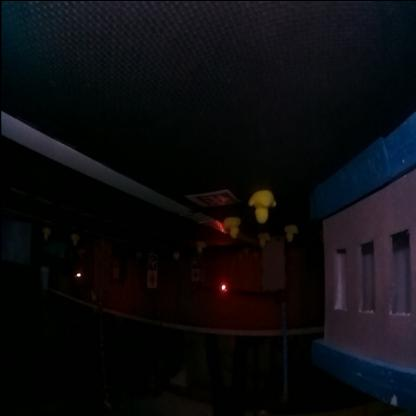Duckie: (250, 193, 276, 220), (222, 218, 240, 238), (284, 224, 298, 238), (258, 233, 270, 246), (197, 240, 204, 252), (43, 228, 50, 240), (72, 235, 78, 245)
Intersection sign: (147, 272, 156, 284), (191, 270, 198, 280)
QR code: (184, 190, 238, 208), (147, 254, 156, 269), (192, 258, 198, 266)
Traffic light: (220, 284, 228, 292)
